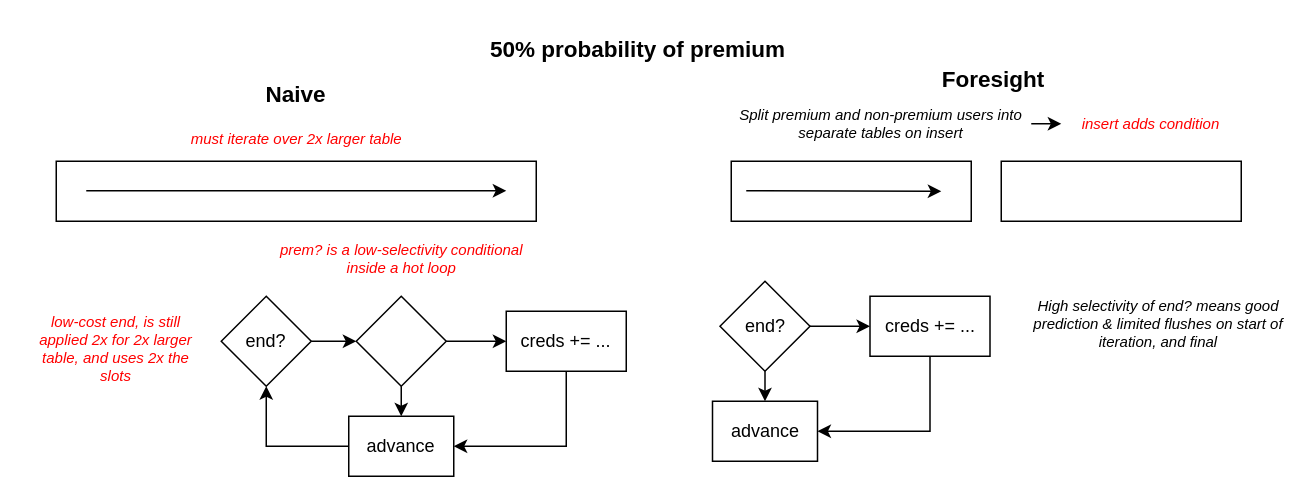
The diagram is 1311 pixels wide and 503 high, and some of its shapes have lost their labels. Here are the shapes that lost their labels. From the top down, the centre of each, then its label:
point (1120, 190): non-premium
point (400, 340): prem?
